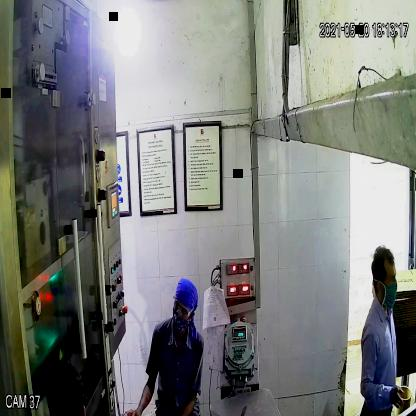goggles: (170, 296, 194, 320)
no_goggles: (372, 269, 400, 292)
